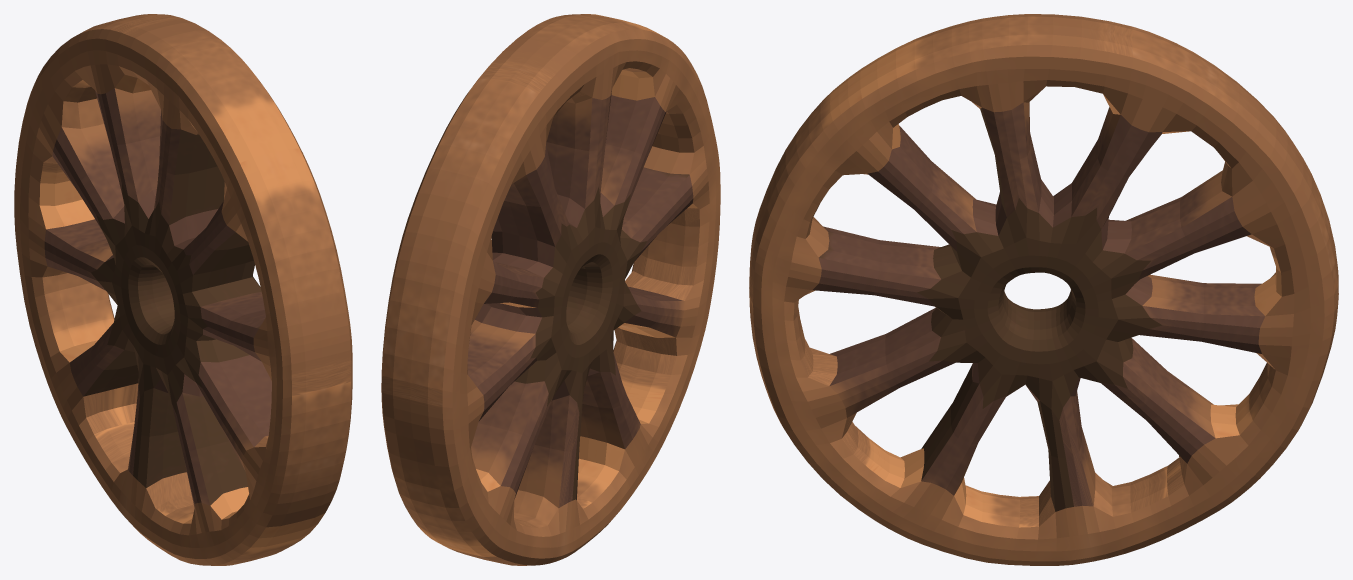
Rendered from CartWheel.fbx.
3 renders of one model, left to right at view 1: azimuth 30°, elevation 25°; view 2: azimuth 150°, elevation 25°; view 3: azimuth 270°, elevation 25°, orthographic. The views are drawn at different scales.
Visible parts, largest first — view 1: Cylinder; view 2: Cylinder; view 3: Cylinder.
Part boxes in pixels (bbox=[...]): Cylinder: bbox=[14, 14, 352, 565]; Cylinder: bbox=[381, 14, 720, 565]; Cylinder: bbox=[749, 14, 1338, 565].
Size of the model in its own units: 70.82 by 470 by 475.
1 material, 1 textured.
